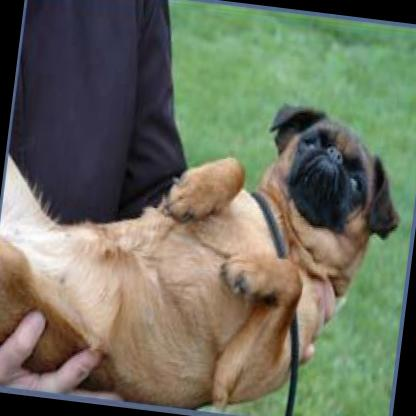Brabancon_griffon: (0, 64, 410, 416)
